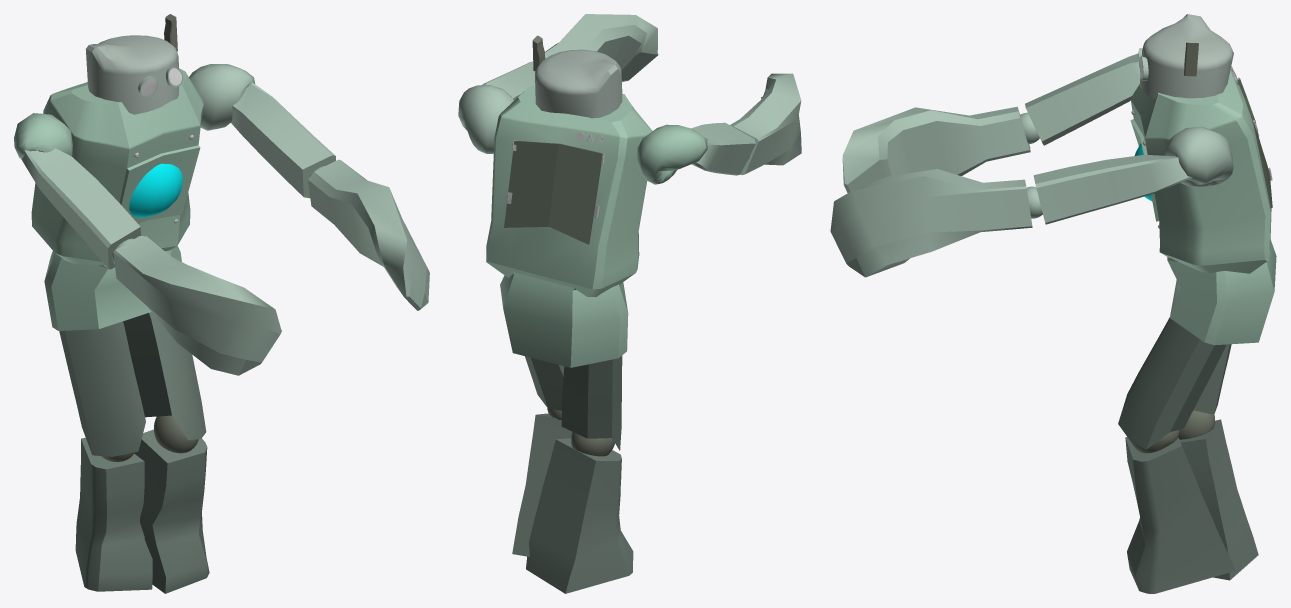
The model's file is Idle_Gar_Arms_Box.fbx.
3 views of the same model, side by side, from view 1: azimuth 30°, elevation 25°; view 2: azimuth 150°, elevation 25°; view 3: azimuth 270°, elevation 25° (orthographic). The views are drawn at different scales.
Parts seen in each view (by area): view 1: polySurface35, polySurface19, polySurface38, polySurface37, polySurface27, polySurface40, polySurface18, polySurface41, polySurface24, polySurface23, polySurface26, polySurface25 (+3 smaller); view 2: polySurface35, polySurface38, polySurface24, polySurface23, polySurface40, polySurface19, polySurface27, polySurface1, polySurface2, polySurface37, polySurface17, polySurface25 (+4 smaller); view 3: polySurface35, polySurface27, polySurface37, polySurface19, polySurface41, polySurface24, polySurface26, polySurface23, polySurface38, polySurface18, polySurface25, polySurface40 (+1 smaller).
Part boxes in pixels (box(x1,y1,x2,y2)): polySurface35: box(31, 68, 203, 265); polySurface19: box(113, 236, 281, 375); polySurface38: box(75, 437, 152, 591); polySurface37: box(134, 429, 209, 593); polySurface27: box(308, 159, 429, 310); polySurface40: box(59, 321, 145, 456); polySurface18: box(21, 148, 140, 269); polySurface41: box(123, 312, 206, 440); polySurface24: box(44, 246, 181, 330); polySurface23: box(86, 35, 178, 114); polySurface26: box(231, 83, 335, 198); polySurface25: box(189, 64, 254, 130); polySurface35: box(486, 85, 652, 296); polySurface38: box(526, 438, 633, 593); polySurface24: box(500, 272, 628, 367); polySurface23: box(535, 49, 622, 118); polySurface40: box(561, 355, 622, 450); polySurface19: box(730, 73, 801, 174); polySurface27: box(545, 14, 658, 82); polySurface1: box(549, 143, 602, 244); polySurface2: box(504, 141, 558, 227); polySurface37: box(512, 413, 572, 556); polySurface17: box(637, 124, 707, 184); polySurface25: box(458, 84, 513, 153); polySurface35: box(1130, 69, 1271, 273); polySurface27: box(830, 169, 1032, 277); polySurface37: box(1125, 437, 1235, 593); polySurface19: box(842, 106, 1030, 192); polySurface41: box(1118, 317, 1226, 449); polySurface24: box(1167, 240, 1276, 345); polySurface26: box(1033, 154, 1192, 224); polySurface23: box(1139, 14, 1233, 98); polySurface38: box(1179, 419, 1258, 580); polySurface18: box(1025, 53, 1140, 145); polySurface25: box(1165, 126, 1233, 187); polySurface40: box(1193, 344, 1231, 414).
Bounding box in the file's own units: 87.89 × 169 × 125.
